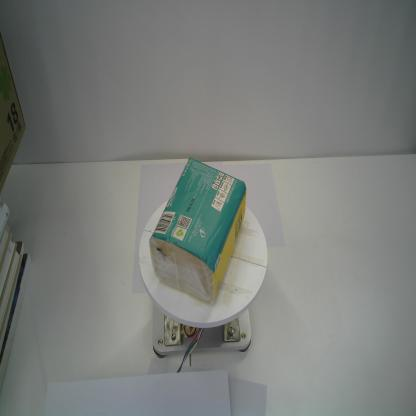Tissue: (148, 155, 249, 305)
